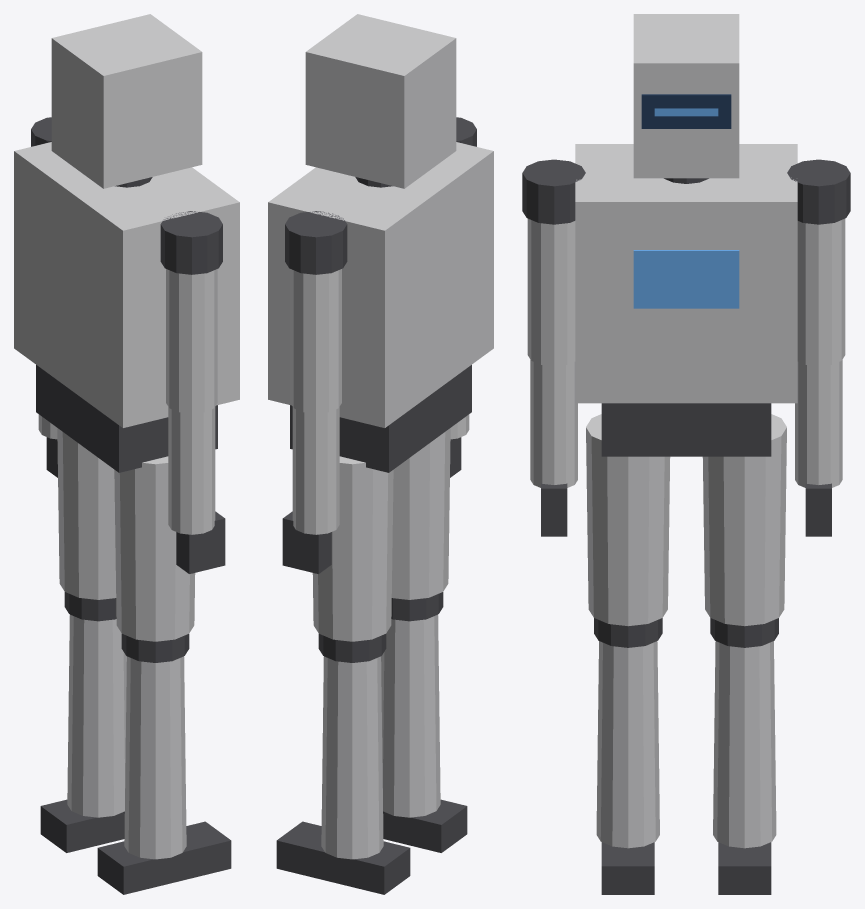
Rendered from SM_Prop_RobotHumanoid.glb.
3 renders of one model, left to right at view 1: azimuth 30°, elevation 25°; view 2: azimuth 150°, elevation 25°; view 3: azimuth 270°, elevation 25°, orthographic. The views are drawn at different scales.
Visible parts, largest first — view 1: SM_Prop_RobotHumanoid; view 2: SM_Prop_RobotHumanoid; view 3: SM_Prop_RobotHumanoid.
Part boxes in pixels (box(x1,y1,x2,y2)): SM_Prop_RobotHumanoid: box(14, 14, 239, 894); SM_Prop_RobotHumanoid: box(268, 14, 493, 894); SM_Prop_RobotHumanoid: box(522, 14, 850, 894).
Size of the model in its own units: 0.27 by 1.72 by 0.62.
